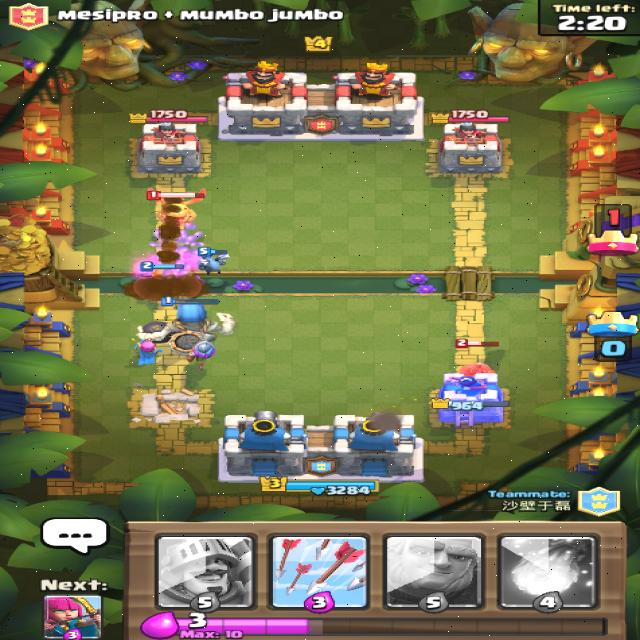Enemy-BabyDragon: (144, 186, 207, 224)
Enemy-HogRider: (453, 337, 498, 374)
Player-Archer: (128, 338, 162, 365)
Player-GiantSkeleton: (134, 295, 236, 355)
Player-Minion: (195, 246, 231, 275)
Player-Musketeer: (183, 332, 220, 371)
Player-Valkyrie: (135, 259, 184, 279)
